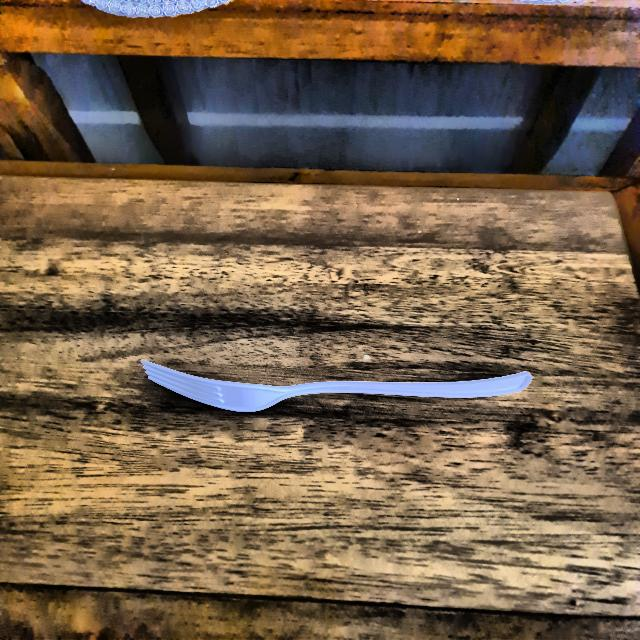plastic utensil: (134, 356, 532, 416)
